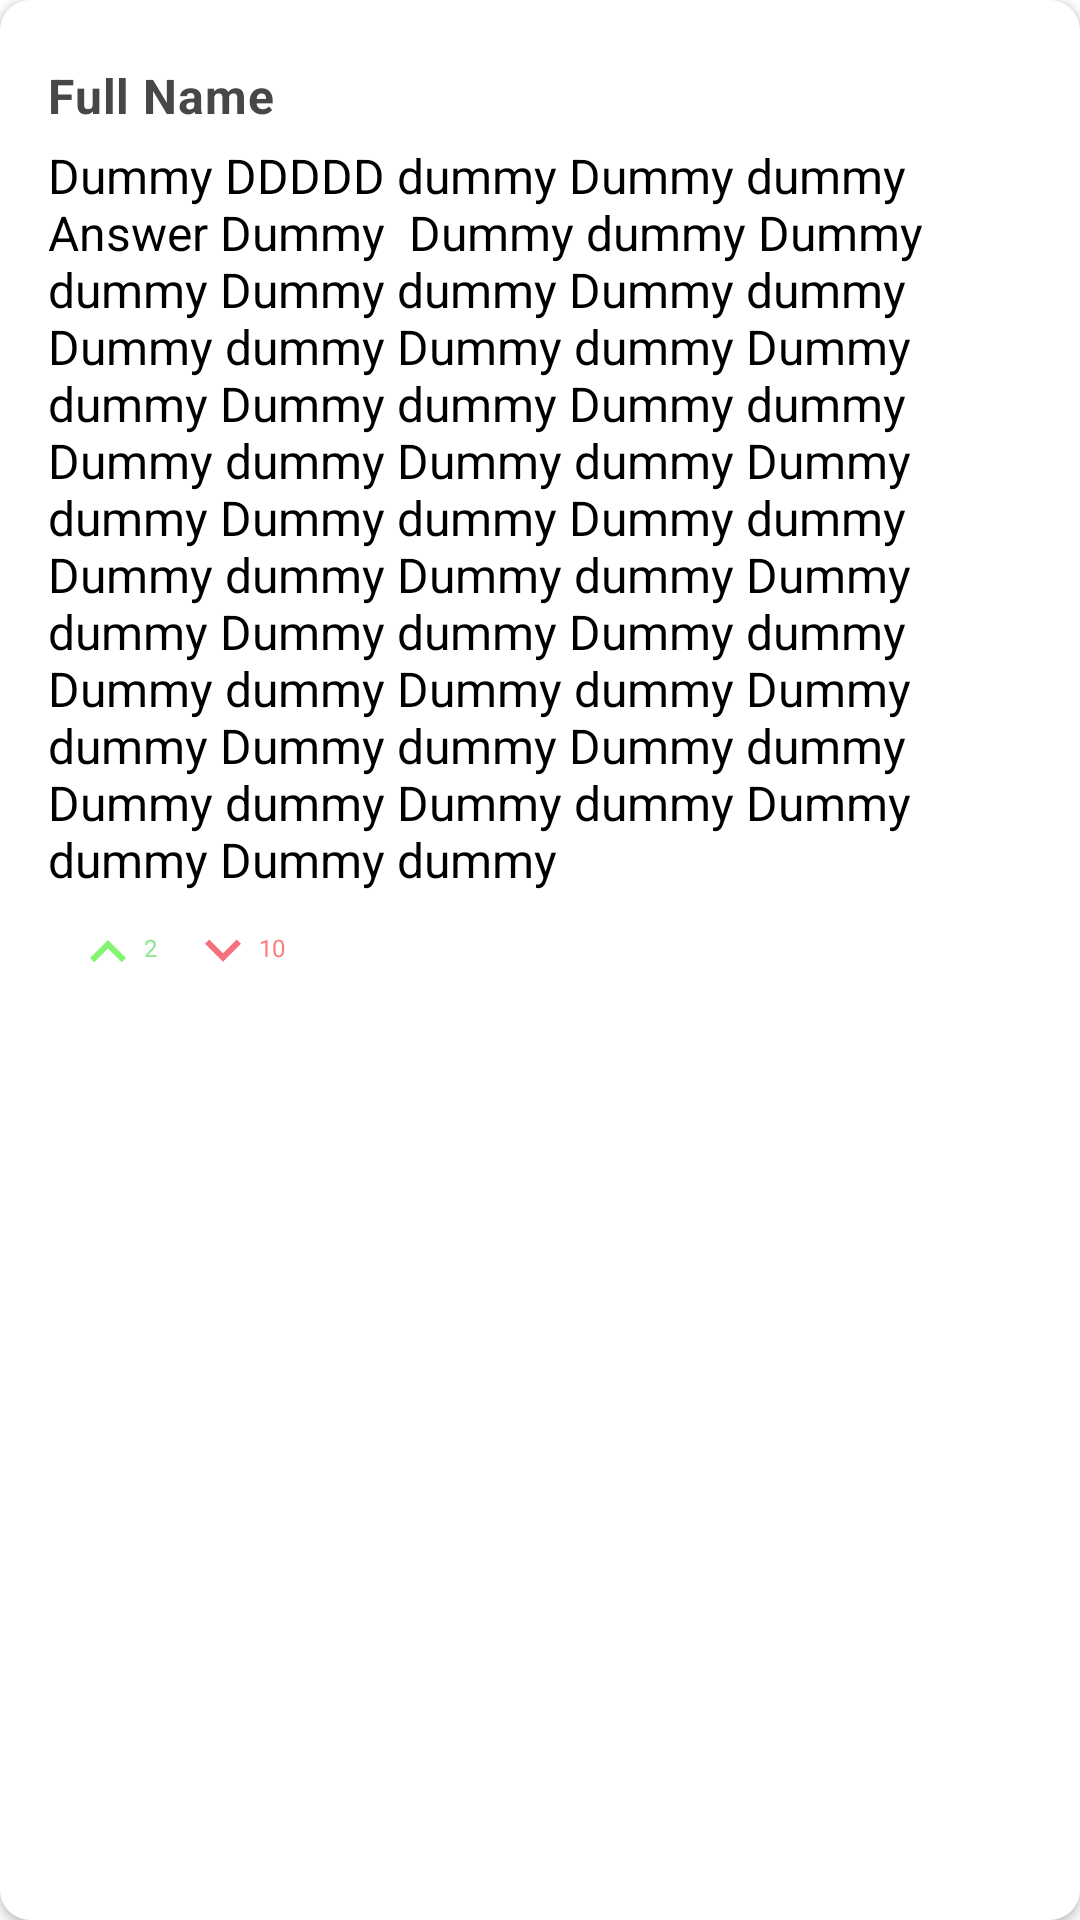

Where to tap for icons on this 1080 x 1920 app screen, as (x=x, y=y):
downvotw: (x=223, y=950)
upvote: (x=108, y=951)
